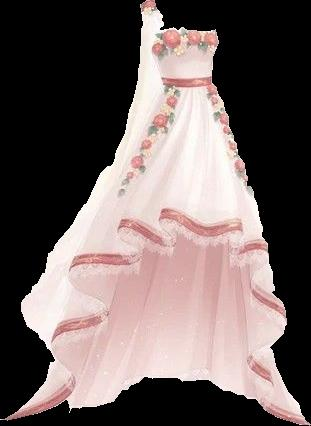Bodice: (141, 1, 218, 88)
Hemline: (53, 222, 284, 399)
Neckline: (152, 2, 217, 33)
Skirt: (16, 83, 310, 425)
Waistline: (161, 81, 214, 92)
